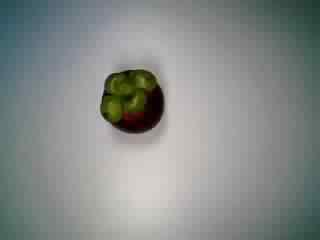mangosteen: (96, 64, 170, 137)
